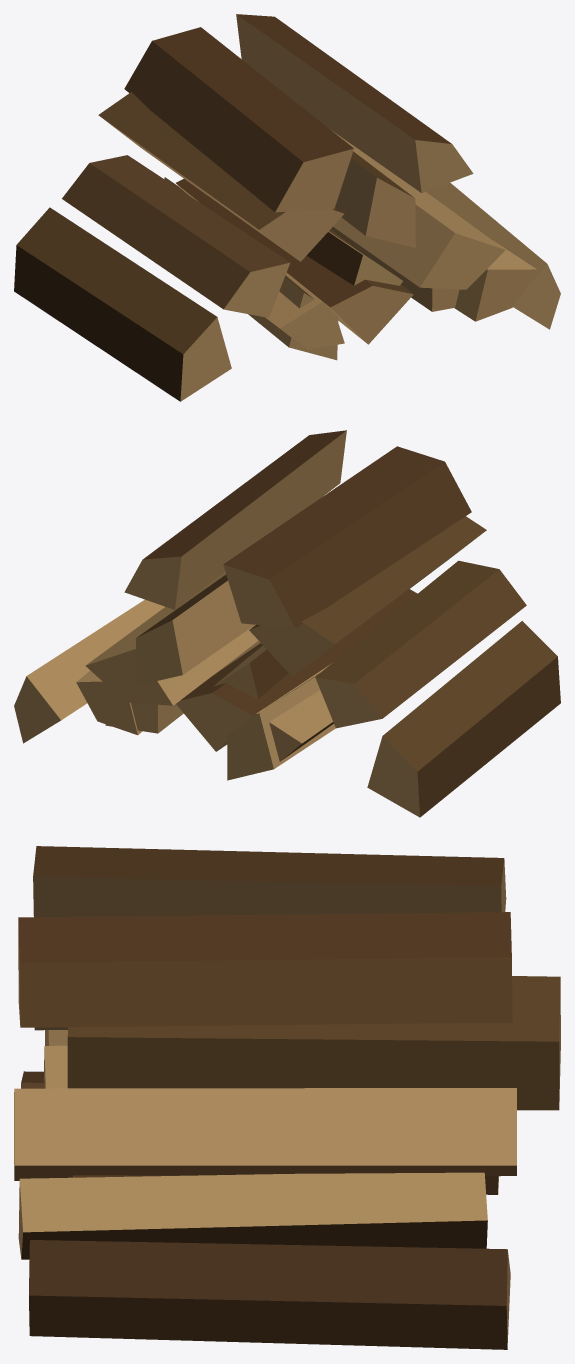
The model's file is storage_firewood.glb.
The picture shows the model from 3 angles, top to bottom: view 1: azimuth 30°, elevation 25°; view 2: azimuth 150°, elevation 25°; view 3: azimuth 270°, elevation 25°; orthographic projection. The views are drawn at different scales.
Parts seen in each view (by area): view 1: storage_firewood; view 2: storage_firewood; view 3: storage_firewood.
Part boxes in pixels (x1,y1,x2,y2): storage_firewood: (14, 14, 560, 401); storage_firewood: (14, 430, 560, 817); storage_firewood: (14, 846, 560, 1349).
Size of the model in its own units: 1.23 by 0.6717 by 1.02.
